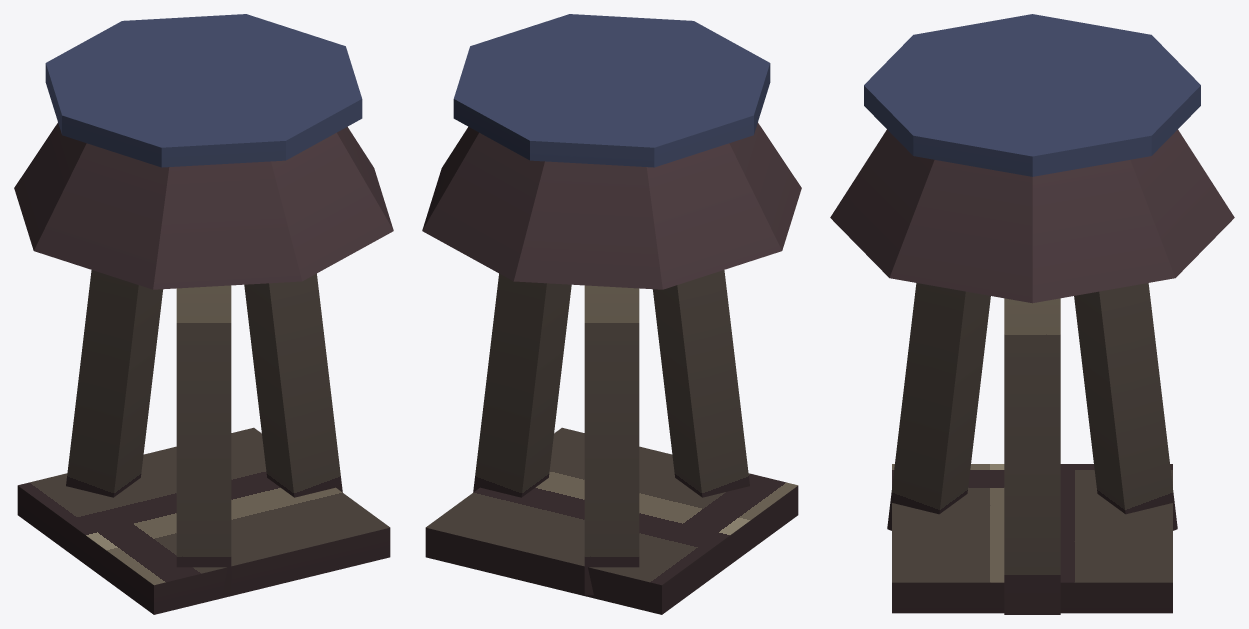
Rendered from brazier.glb.
3 views of the same model, side by side, from view 1: azimuth 30°, elevation 25°; view 2: azimuth 150°, elevation 25°; view 3: azimuth 270°, elevation 25° (orthographic). The views are drawn at different scales.
Parts seen in each view (by area): view 1: brazier; view 2: brazier; view 3: brazier.
Part boxes in pixels (x1,y1,x2,y2): brazier: (14,14,393,614); brazier: (422,14,801,614); brazier: (830,14,1234,614).
Bounding box in the file's own units: 0.72 × 0.926 × 0.72.
2 materials, 1 textured.
